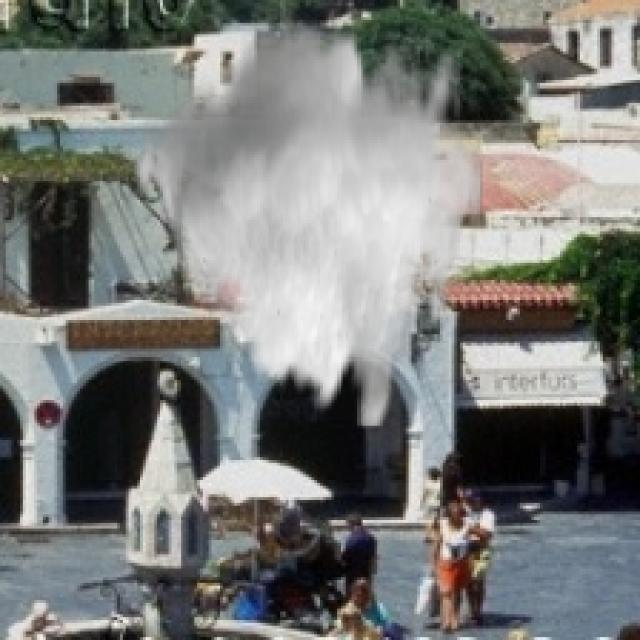smoke: (126, 14, 483, 429)
